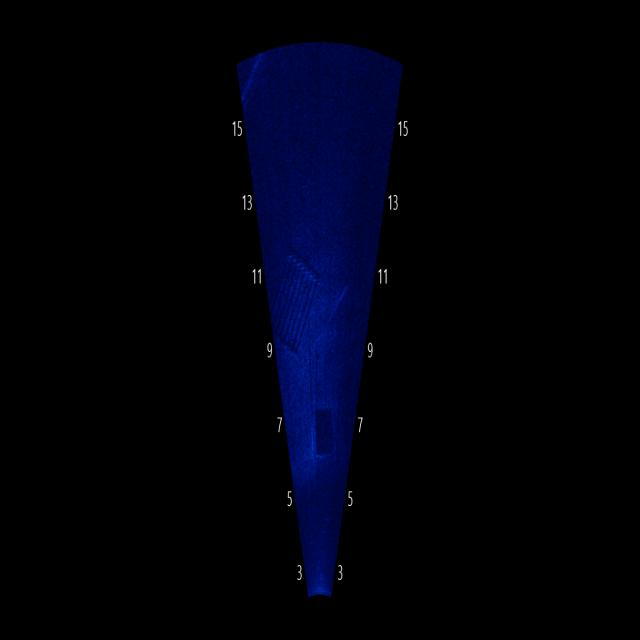square: (264, 244, 330, 366), (312, 389, 338, 479)
